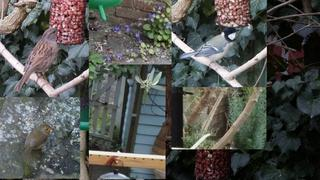dunnock: (14, 27, 62, 92)
great tit: (179, 27, 240, 72)
robin: (22, 124, 54, 158)
